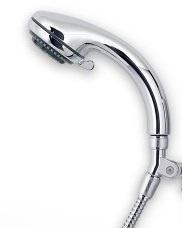Ducha: (25, 3, 181, 227)
